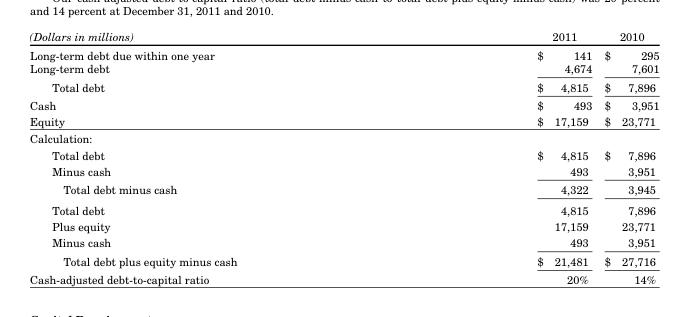table: (29, 29, 658, 285)
table column: (29, 29, 386, 285), (386, 29, 597, 285), (597, 29, 658, 285)
table column header: (29, 29, 658, 45)
table projected row header: (29, 129, 658, 146)
table row: (29, 179, 658, 199), (29, 199, 658, 218), (29, 77, 658, 95), (29, 95, 658, 113), (29, 251, 658, 269), (29, 129, 658, 146), (29, 162, 658, 179), (29, 234, 658, 251), (29, 29, 658, 45), (29, 45, 658, 61), (29, 61, 658, 77), (29, 113, 658, 129), (29, 146, 658, 162), (29, 218, 658, 234), (29, 269, 658, 285)
